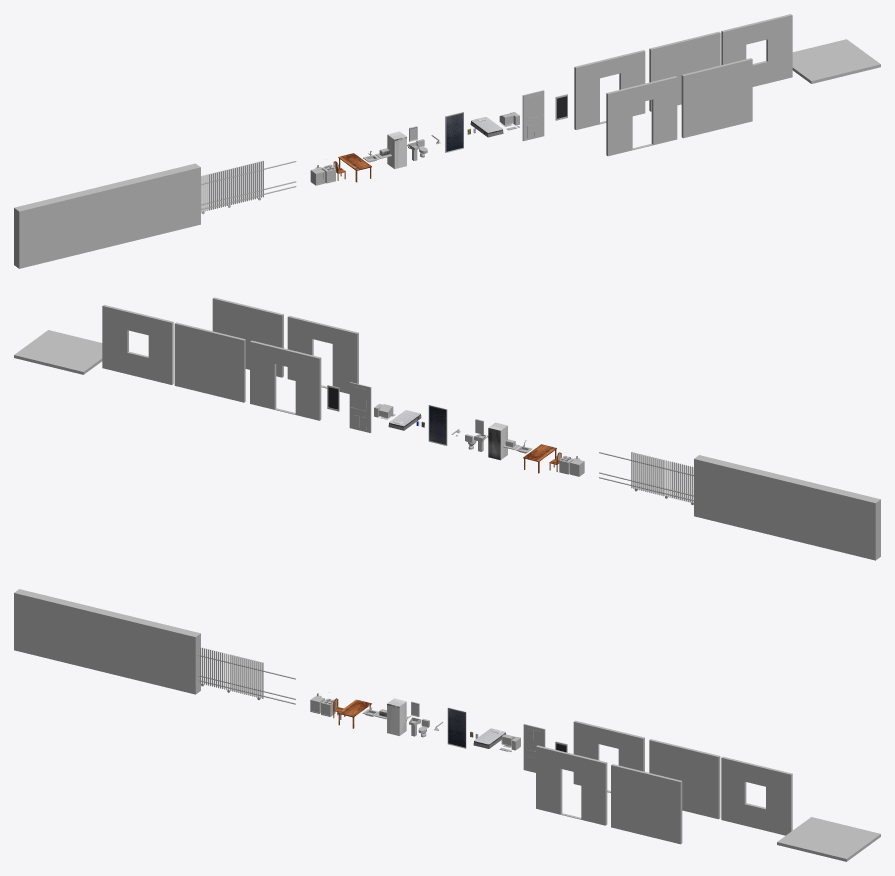
The model's file is cozinha.fbx.
The picture shows the model from 3 angles, top to bottom: view 1: azimuth 30°, elevation 25°; view 2: azimuth 150°, elevation 25°; view 3: azimuth 330°, elevation 25°; orthographic projection.
Parts seen in each view (by area): view 1: obj_muro, obj_banheiro, obj_banheirop, obj_paredej, obj_paredep, obj_parede, obj_chao, obj_portao, obj_porta, obj_box, obj_geladeira; view 2: obj_muro, obj_parede, obj_paredej, obj_paredep, obj_banheirop, obj_banheiro, obj_chao, obj_portao, obj_porta, obj_box, obj_geladeira; view 3: obj_muro, obj_banheiro, obj_paredej, obj_banheirop, obj_parede, obj_chao, obj_portao, obj_paredep, obj_porta, obj_box, obj_geladeira.
Boxes of the visible parts, x1=… form: obj_muro: x1=14, y1=163, x2=200, y2=268; obj_banheiro: x1=681, y1=58, x2=752, y2=138; obj_banheirop: x1=606, y1=76, x2=677, y2=156; obj_paredej: x1=721, y1=14, x2=792, y2=86; obj_paredep: x1=574, y1=50, x2=645, y2=129; obj_parede: x1=649, y1=31, x2=720, y2=111; obj_chao: x1=792, y1=39, x2=880, y2=83; obj_portao: x1=201, y1=160, x2=296, y2=214; obj_porta: x1=522, y1=90, x2=544, y2=141; obj_box: x1=445, y1=112, x2=463, y2=152; obj_geladeira: x1=387, y1=131, x2=406, y2=168; obj_muro: x1=694, y1=455, x2=880, y2=560; obj_parede: x1=174, y1=322, x2=245, y2=402; obj_paredej: x1=102, y1=305, x2=173, y2=384; obj_paredep: x1=250, y1=340, x2=321, y2=420; obj_banheirop: x1=287, y1=315, x2=358, y2=393; obj_banheiro: x1=212, y1=297, x2=283, y2=377; obj_chao: x1=14, y1=330, x2=102, y2=374; obj_portao: x1=599, y1=452, x2=693, y2=504; obj_porta: x1=349, y1=382, x2=371, y2=432; obj_box: x1=428, y1=405, x2=447, y2=445; obj_geladeira: x1=488, y1=422, x2=507, y2=460; obj_muro: x1=14, y1=589, x2=200, y2=694; obj_banheiro: x1=611, y1=764, x2=682, y2=844; obj_paredej: x1=721, y1=756, x2=792, y2=835; obj_banheirop: x1=536, y1=745, x2=607, y2=825; obj_parede: x1=649, y1=739, x2=720, y2=819; obj_chao: x1=777, y1=817, x2=880, y2=861; obj_portao: x1=198, y1=647, x2=295, y2=704; obj_paredep: x1=573, y1=720, x2=644, y2=792; obj_porta: x1=523, y1=724, x2=545, y2=772; obj_box: x1=447, y1=707, x2=466, y2=748; obj_geladeira: x1=387, y1=698, x2=406, y2=735.
Size of the model in its own units: 18327 by 1321 by 1989.
